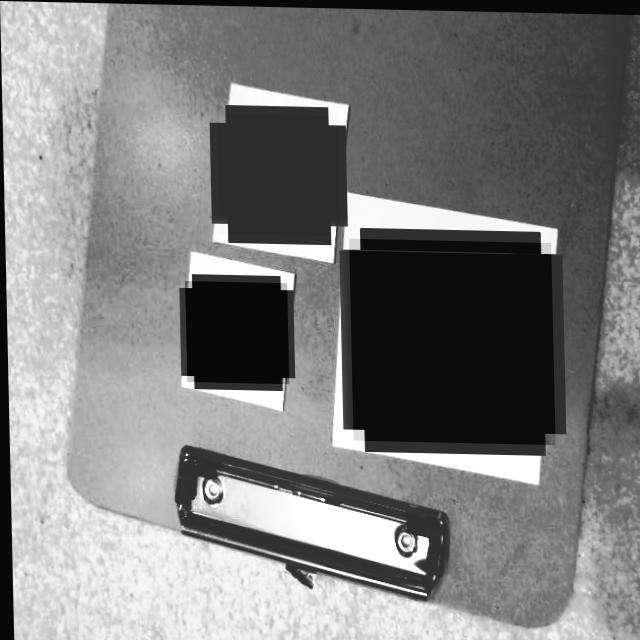qr_code: (349, 236, 554, 442), (217, 112, 339, 234), (184, 279, 288, 382)
